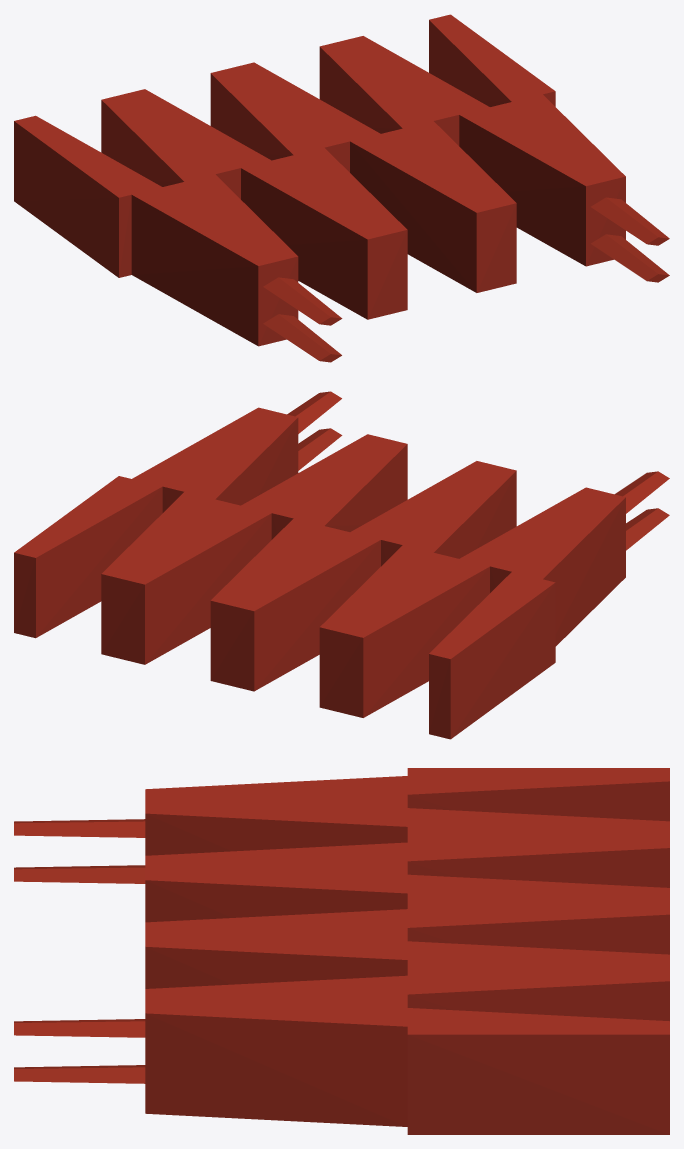
The model's file is scrap-iron-coral.glb.
3 views of the same model, one above another, from view 1: azimuth 30°, elevation 25°; view 2: azimuth 150°, elevation 25°; view 3: azimuth 270°, elevation 25° (orthographic). The views are drawn at different scales.
Parts seen in each view (by area): view 1: scrap-iron-coral; view 2: scrap-iron-coral; view 3: scrap-iron-coral.
Part boxes in pixels (x1,y1,x2,y2): scrap-iron-coral: (14, 14, 669, 362); scrap-iron-coral: (14, 391, 669, 739); scrap-iron-coral: (14, 768, 669, 1134).
Size of the model in its own units: 0.74 by 0.13 by 0.77.
